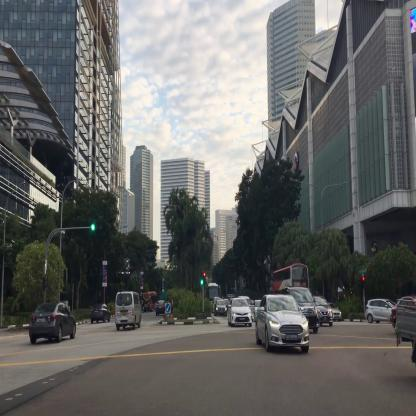green_traffic_light: (91, 224, 101, 230), (200, 272, 203, 285)
